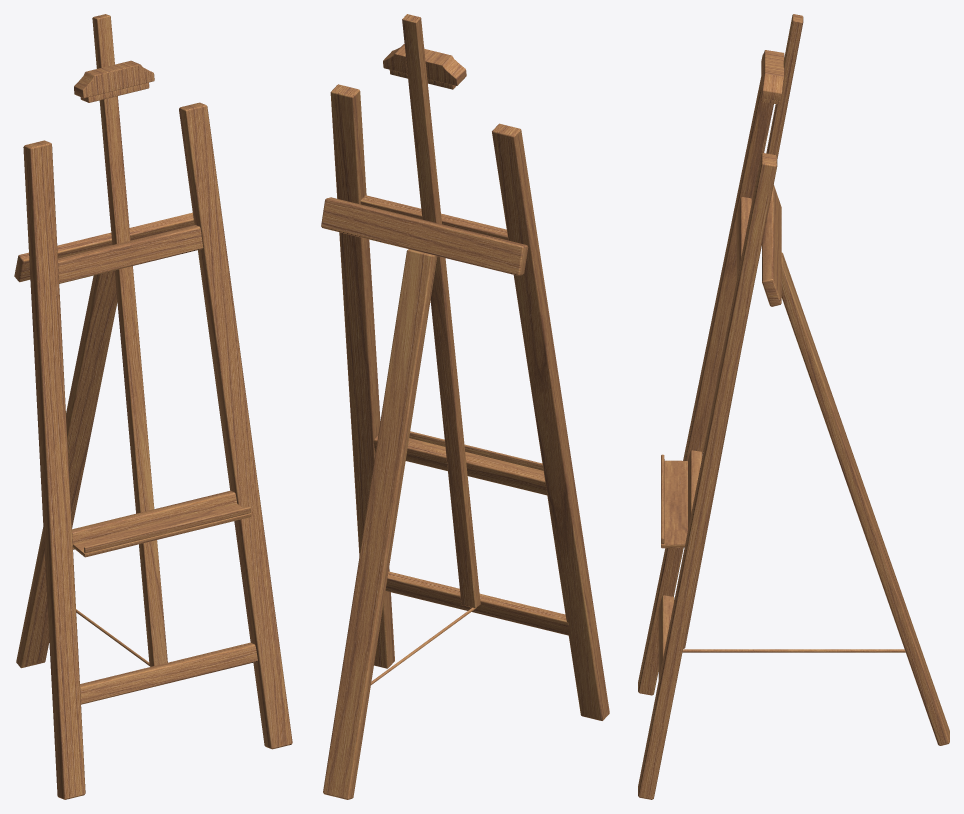
Rendered from SM_easel_stand.fbx.
3 renders of one model, left to right at view 1: azimuth 30°, elevation 25°; view 2: azimuth 150°, elevation 25°; view 3: azimuth 270°, elevation 25°, orthographic. The views are drawn at different scales.
Visible parts, largest first — view 1: easel; view 2: easel; view 3: easel.
Boxes of the visible parts, <box> form: easel: <box>14,14,292,799</box>; easel: <box>321,14,609,799</box>; easel: <box>638,14,949,799</box>.
Size of the model in its own units: 26.57 by 77.92 by 30.34.
Materials: 1 (1 with a texture image).
